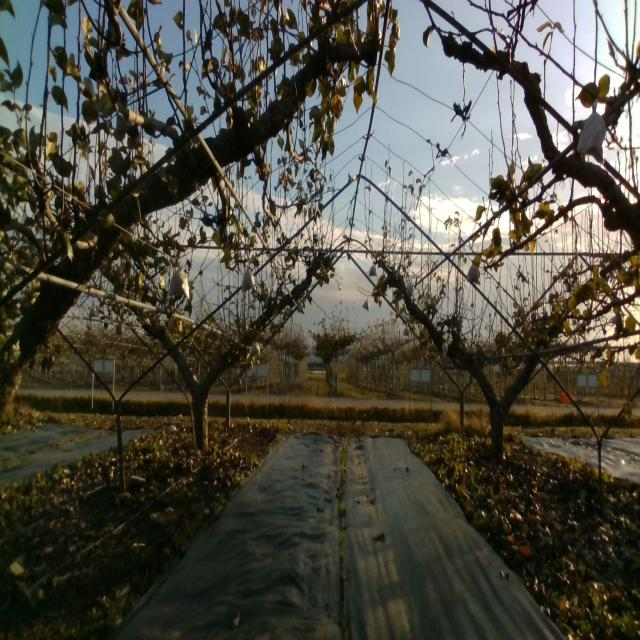pearbags: (577, 98, 606, 164), (168, 269, 190, 299), (242, 268, 256, 294), (467, 265, 481, 286)
